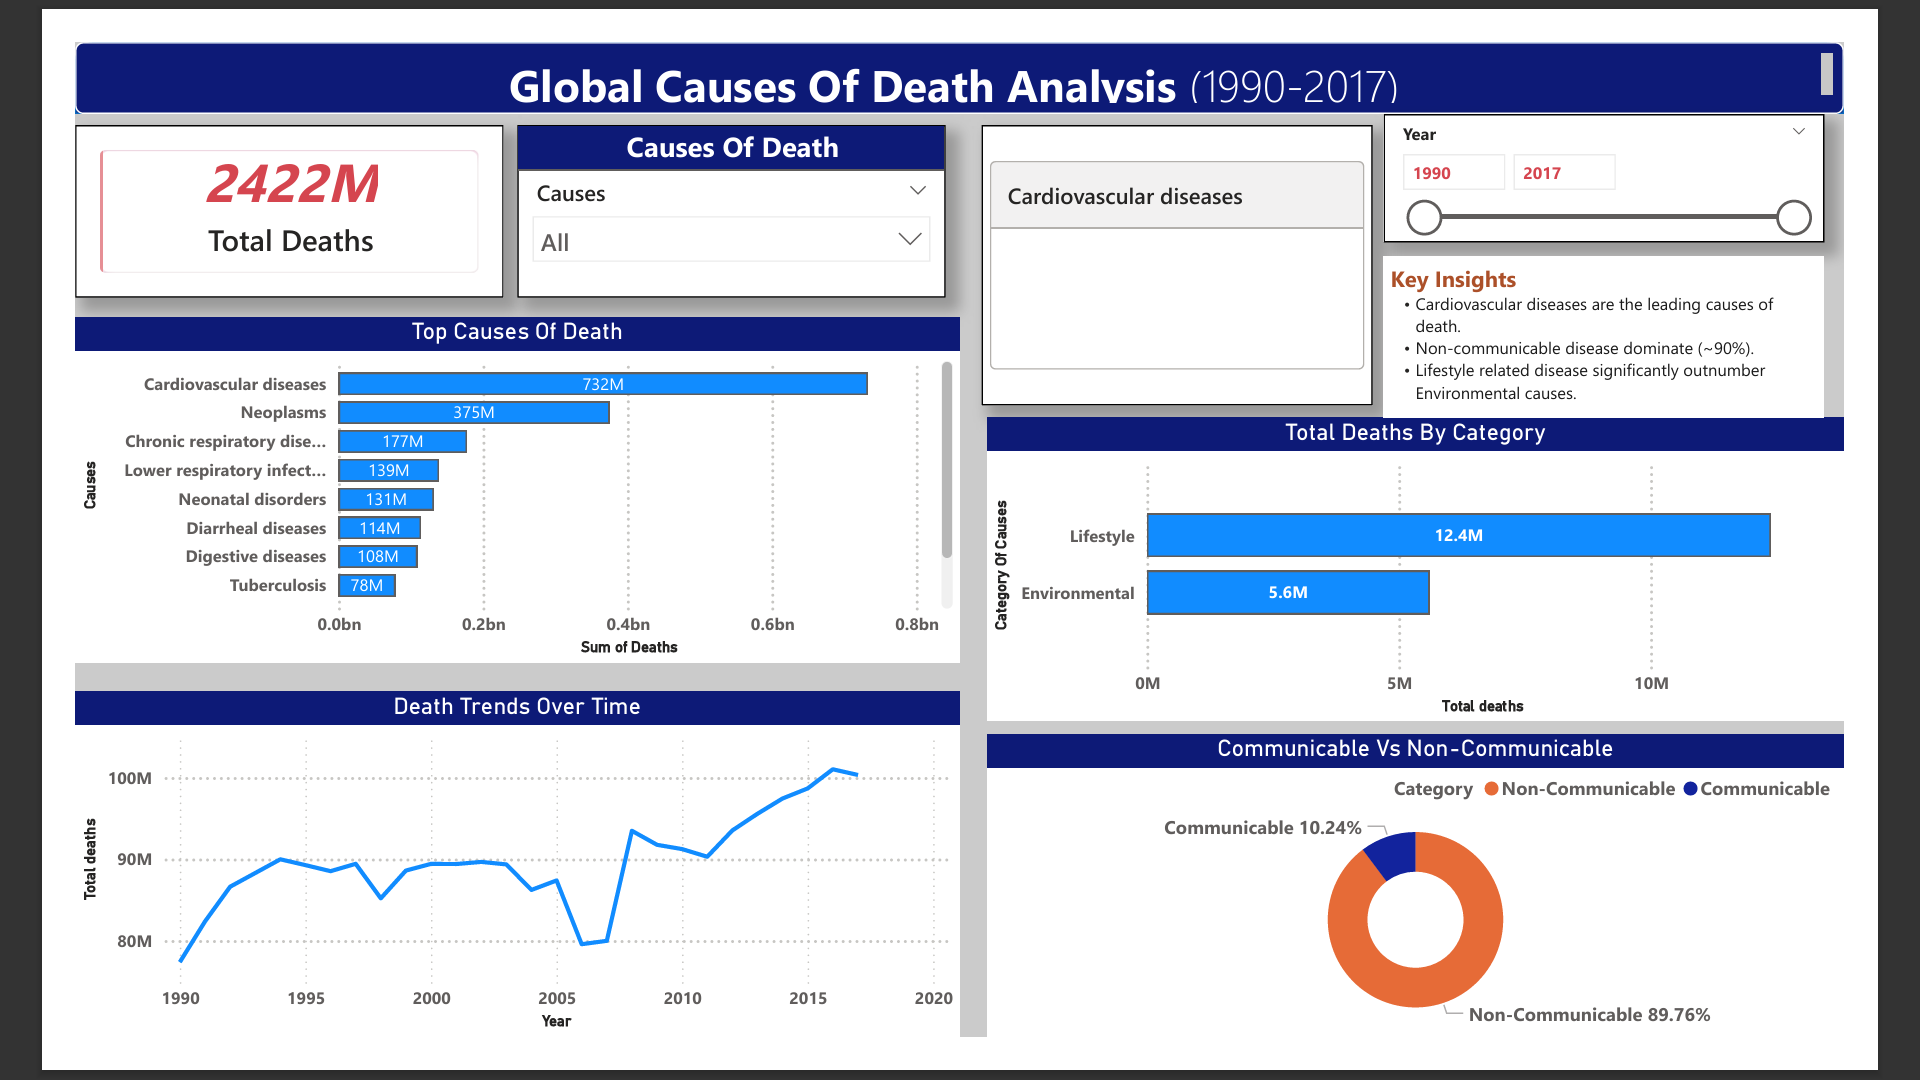

This screenshot's page, from the dashboard's own definition file:
{"tool":"powerbi","page":{"name":"Mortality Trends","canvas":[1280,720],"ordinal":0},"visuals":[{"type":"lineChart","title":"Death Trends Over Time ","fields":{"Y":["Causes Of Death.Total deaths"],"Category":["Causes Of Death.Year"]},"box":[0,469.9,640.5,250.3],"z":0},{"type":"shape","box":[0,0,1279.8,51.5],"z":1000},{"type":"textbox","box":[0,0,1279.8,51.5],"z":2000},{"type":"cardVisual","fields":{"Data":["Causes Of Death.Total deaths"]},"box":[0,60.1,310,125],"z":3000},{"type":"slicer","title":"Causes Of Death","fields":{"Values":["Causes Of Death.Causes"]},"box":[320.2,60.1,310,125],"z":4000},{"type":"cardVisual","fields":{"Rows":["Causes Of Death.Causes"],"Data":["Causes Of Death.Total deaths"]},"box":[656.4,60.1,282.2,202.5],"z":5000},{"type":"clusteredBarChart","title":"Top Causes Of Death","fields":{"Category":["Causes Of Death.Causes"],"Y":["Sum(Causes Of Death.Deaths)"]},"box":[0,198.8,640.5,250.3],"z":6000},{"type":"donutChart","title":"Communicable Vs Non-Communicable","fields":{"Y":["Sum(Causes Of Death.Deaths)"],"Category":["Causes Of Death.category"]},"box":[660.1,500.6,619.6,219.6],"z":7000},{"type":"slicer","fields":{"Values":["Causes Of Death.Year"]},"box":[947.2,51.5,319,93.3],"z":8000},{"type":"clusteredBarChart","title":"Total Deaths By Category","fields":{"Category":["Causes Of Death.Category Of Causes"],"Y":["Causes Of Death.Total deaths"]},"box":[660.1,272.4,619.6,219.6],"z":9000},{"type":"textbox","box":[947.2,154.6,319,117.8],"z":10000}]}

Visuals, with their boxes in screenshot pixels (x1, y1, x2, y2), scaled from the page's 1280x720 canvas onto the 1920x1080 screenshot:
"Death Trends Over Time " lineChart: [0,705,961,1079]
shape: [0,0,1919,77]
textbox: [0,0,1919,77]
cardVisual - Causes Of Death.Total deaths: [0,90,465,278]
"Causes Of Death" slicer: [480,90,945,278]
cardVisual - Causes Of Death.Causes x Causes Of Death.Total deaths: [985,90,1408,394]
"Top Causes Of Death" clusteredBarChart: [0,298,961,674]
"Communicable Vs Non-Communicable" donutChart: [990,751,1919,1079]
slicer - Causes Of Death.Year: [1421,77,1899,217]
"Total Deaths By Category" clusteredBarChart: [990,409,1919,738]
textbox: [1421,232,1899,409]
